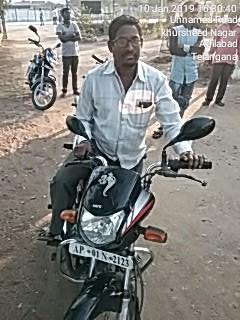plate: (66, 243, 136, 272)
